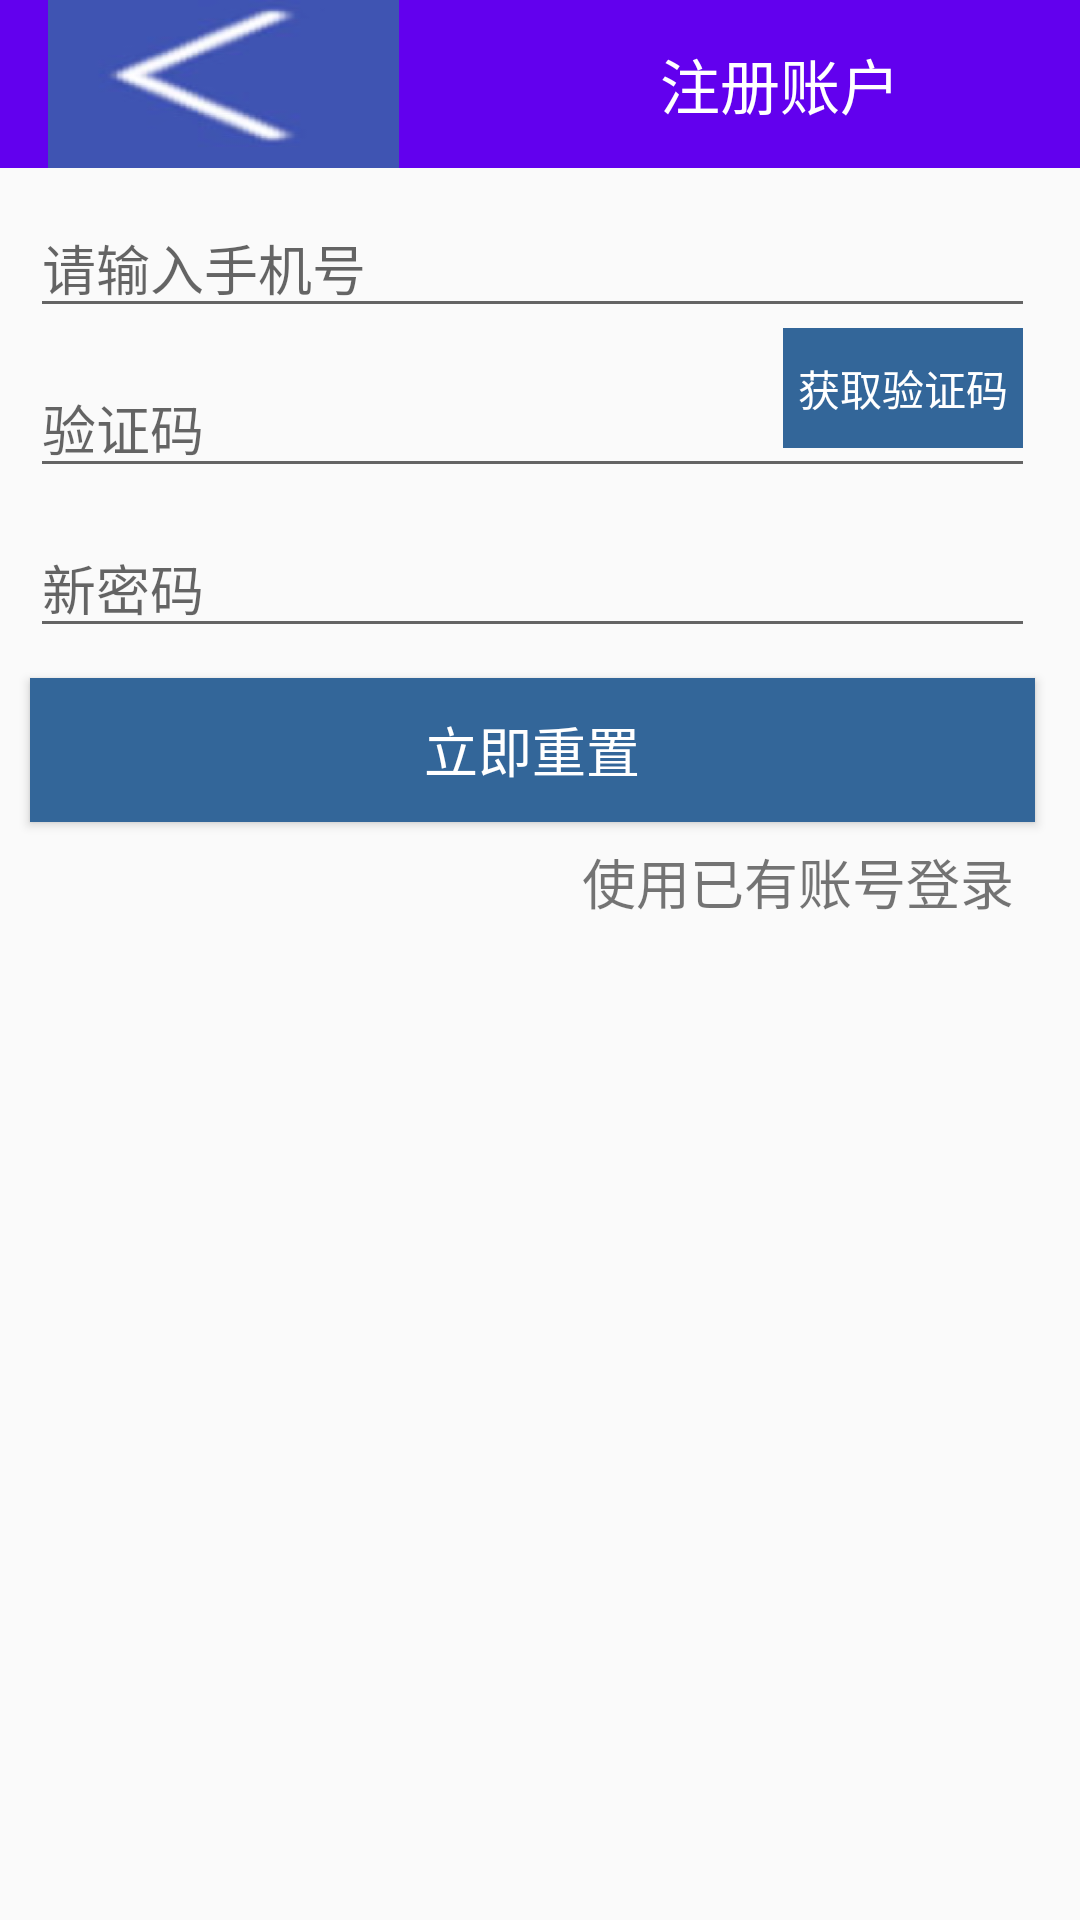

Point at icon controls on the screen. Image size 1080x1920, points as point (x, y).
arrow back: point (223, 84)
